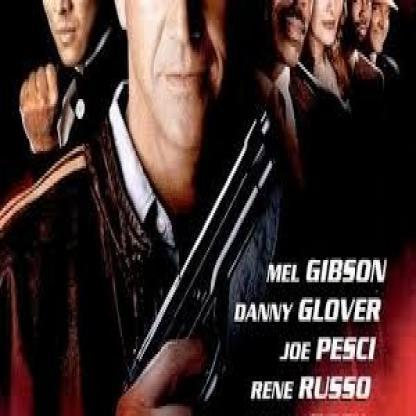Pistol: (144, 99, 312, 411)
